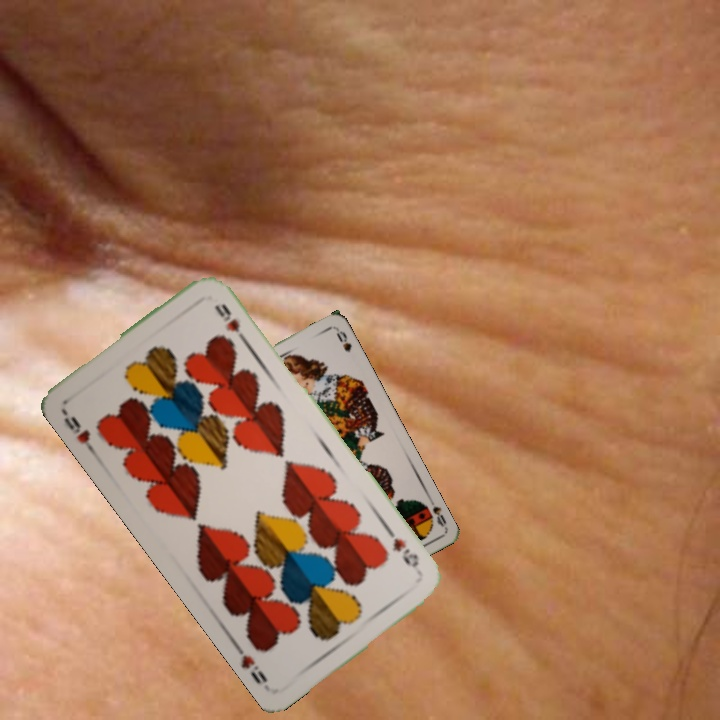H9: (58, 406, 99, 458), (387, 534, 422, 571)
SO: (417, 491, 449, 529)
